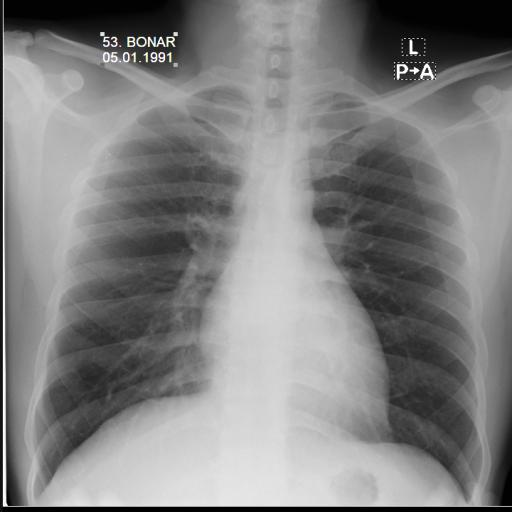normal: (22, 60, 486, 502)
